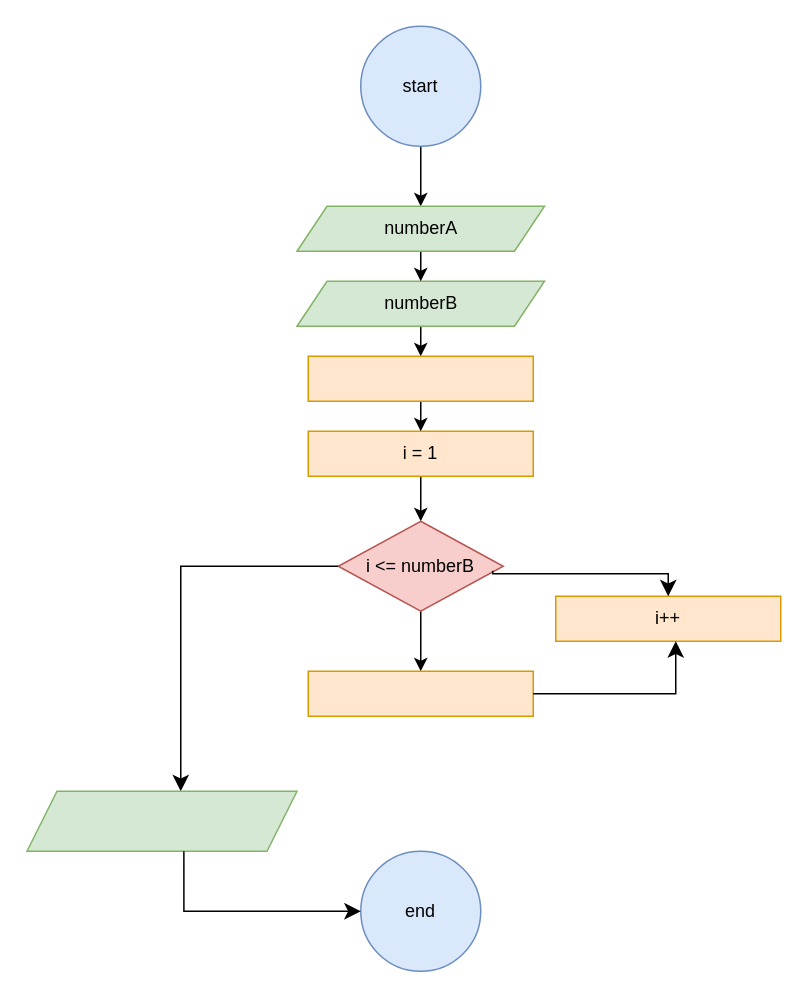
The diagram is 807 pixels wide and 998 high, and some of its shapes have lost their labels. Here are the shapes that lost their labels. From the top down, the box of each, then its label:
(307, 355, 533, 401): result = 1
(307, 670, 533, 716): result *= numberA
(26, 790, 297, 851): print(result)
